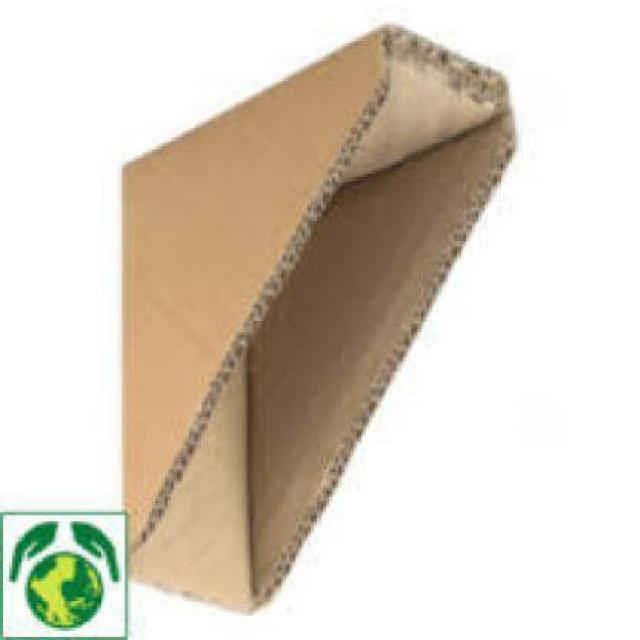box: (113, 28, 516, 622)
